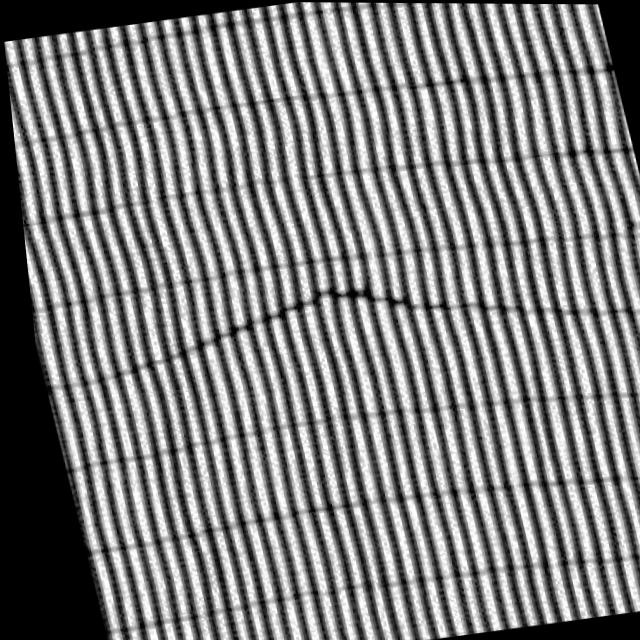Stitch: (145, 210, 526, 425)
